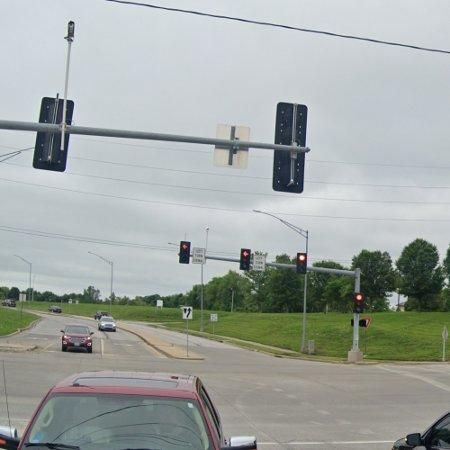traffic lights: (274, 150, 306, 193)
